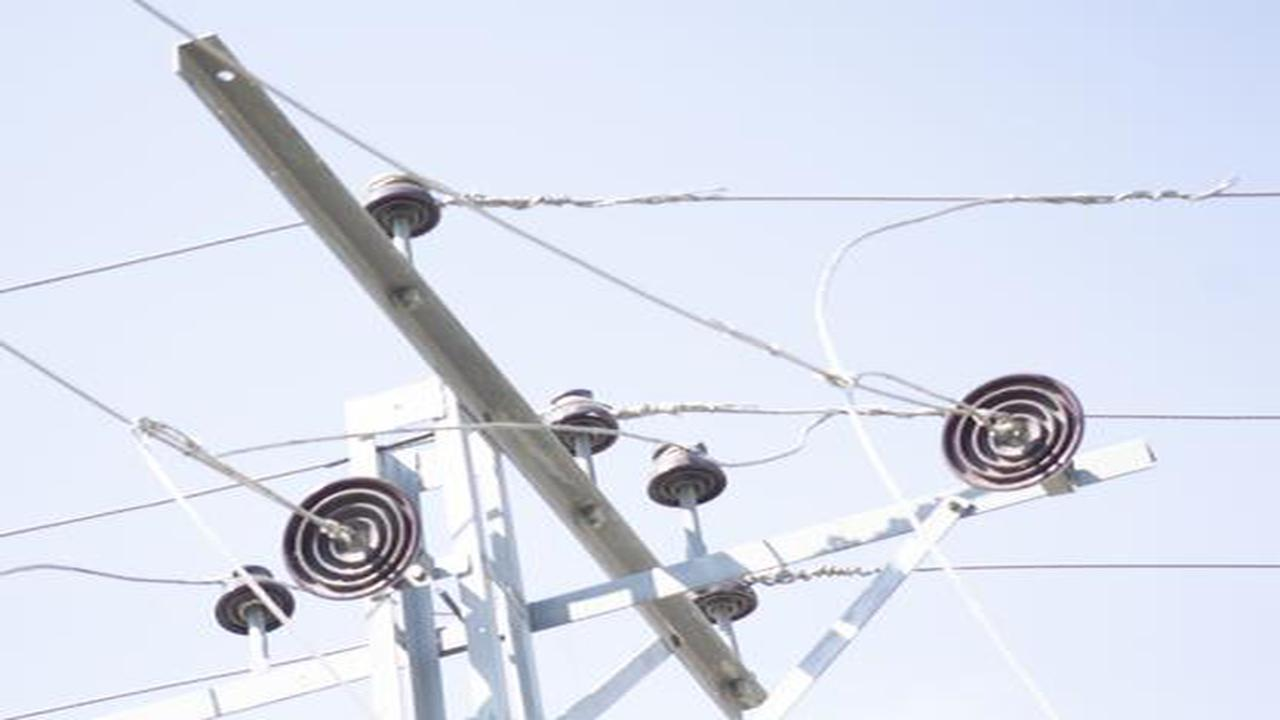insulator_disc: (938, 370, 1090, 493), (281, 475, 421, 601)
insulator_pin: (209, 561, 292, 640), (539, 385, 623, 456), (647, 438, 730, 509), (359, 169, 442, 238)
